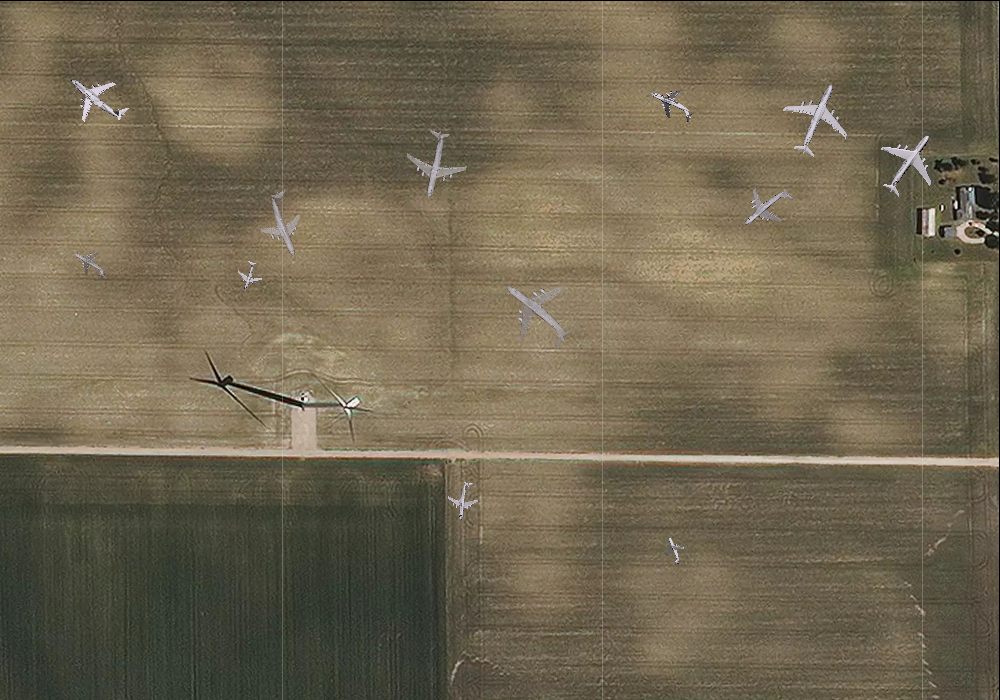plane: (482, 259, 591, 367), (769, 70, 865, 167), (862, 116, 956, 210), (54, 54, 141, 140), (395, 123, 474, 205), (246, 182, 322, 264), (730, 171, 804, 244), (642, 77, 701, 132), (65, 241, 114, 287), (444, 479, 484, 522), (230, 257, 266, 295), (657, 533, 690, 569)
